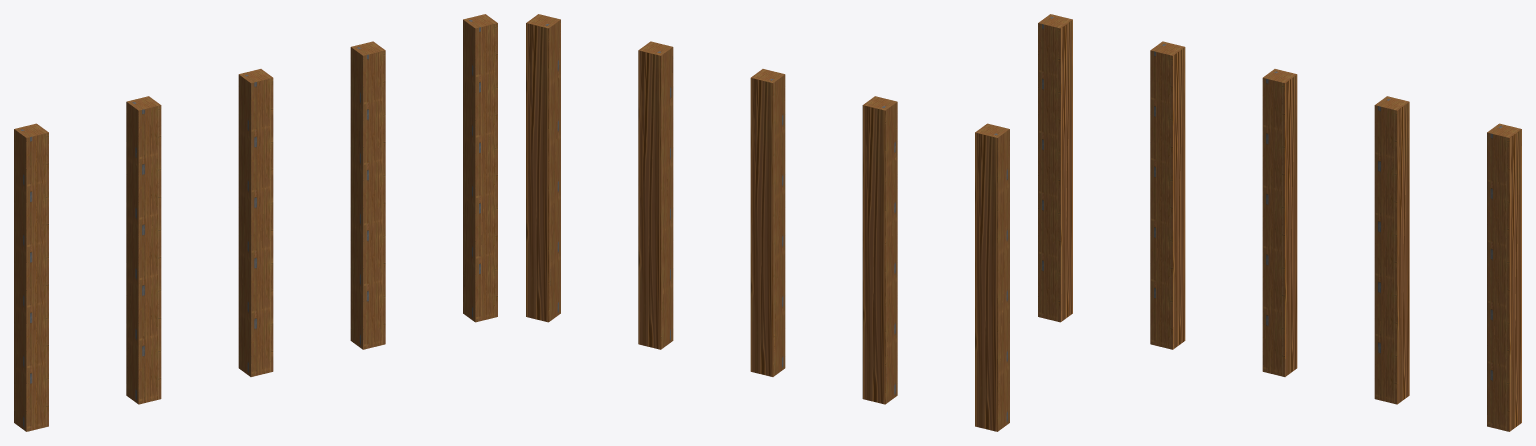
3 renders of one model, left to right at view 1: azimuth 30°, elevation 25°; view 2: azimuth 150°, elevation 25°; view 3: azimuth 330°, elevation 25°, orthographic.
Visible parts, largest first — view 1: Cube.1833; view 2: Cube.1833; view 3: Cube.1833.
Boxes of the visible parts, bbox=[...] form: Cube.1833: bbox=[14, 14, 497, 431]; Cube.1833: bbox=[526, 14, 1009, 431]; Cube.1833: bbox=[1038, 14, 1521, 431].
Size of the model in its own units: 264 by 157 by 11.94.
Materials: 1 (1 with a texture image).
